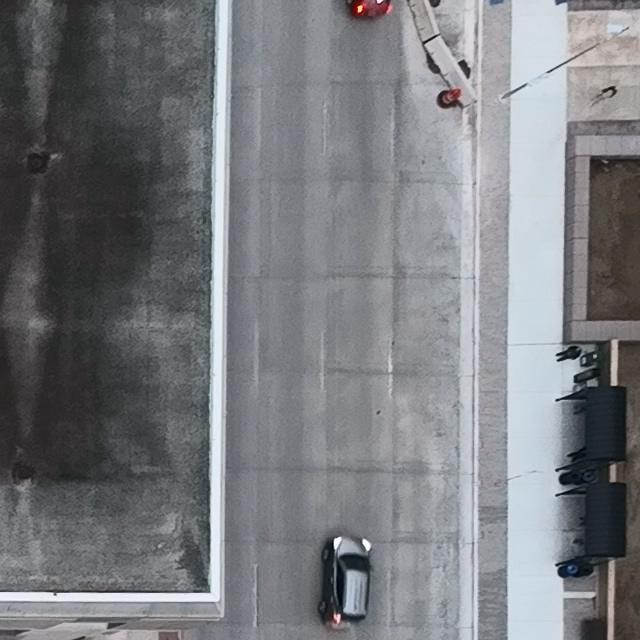car: (318, 534, 373, 627), (346, 0, 393, 17)
